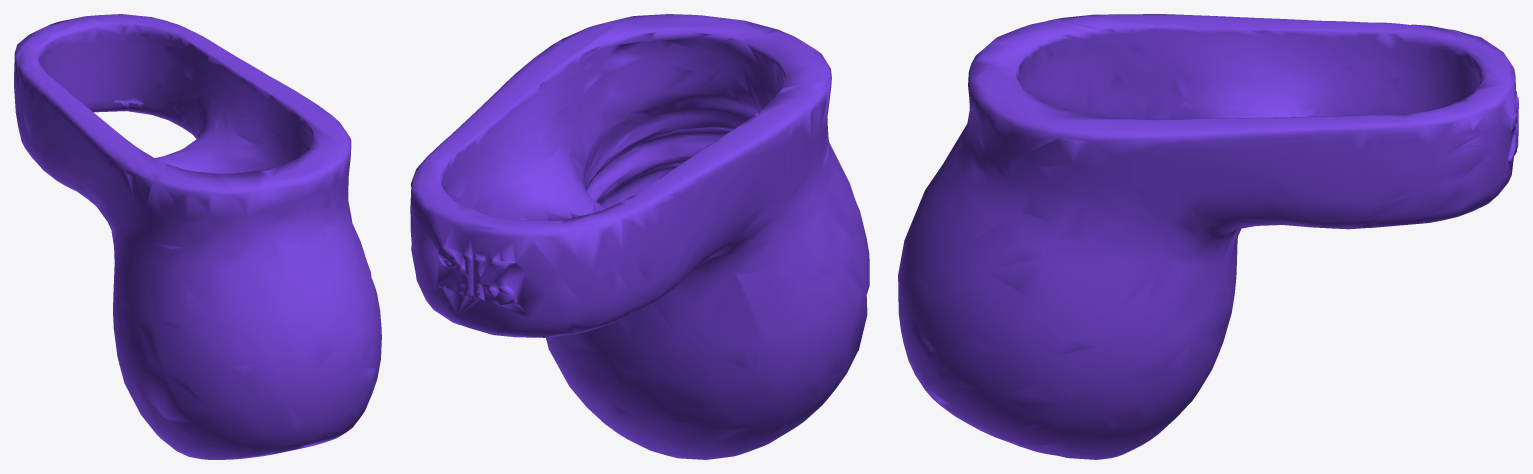
File: plain-well-ar.glb
The picture shows the model from 3 angles, left to right: view 1: azimuth 30°, elevation 25°; view 2: azimuth 150°, elevation 25°; view 3: azimuth 270°, elevation 25°; orthographic projection. The views are drawn at different scales.
Size of the model in its own units: 0.0487 by 0.0622 by 0.0952.
